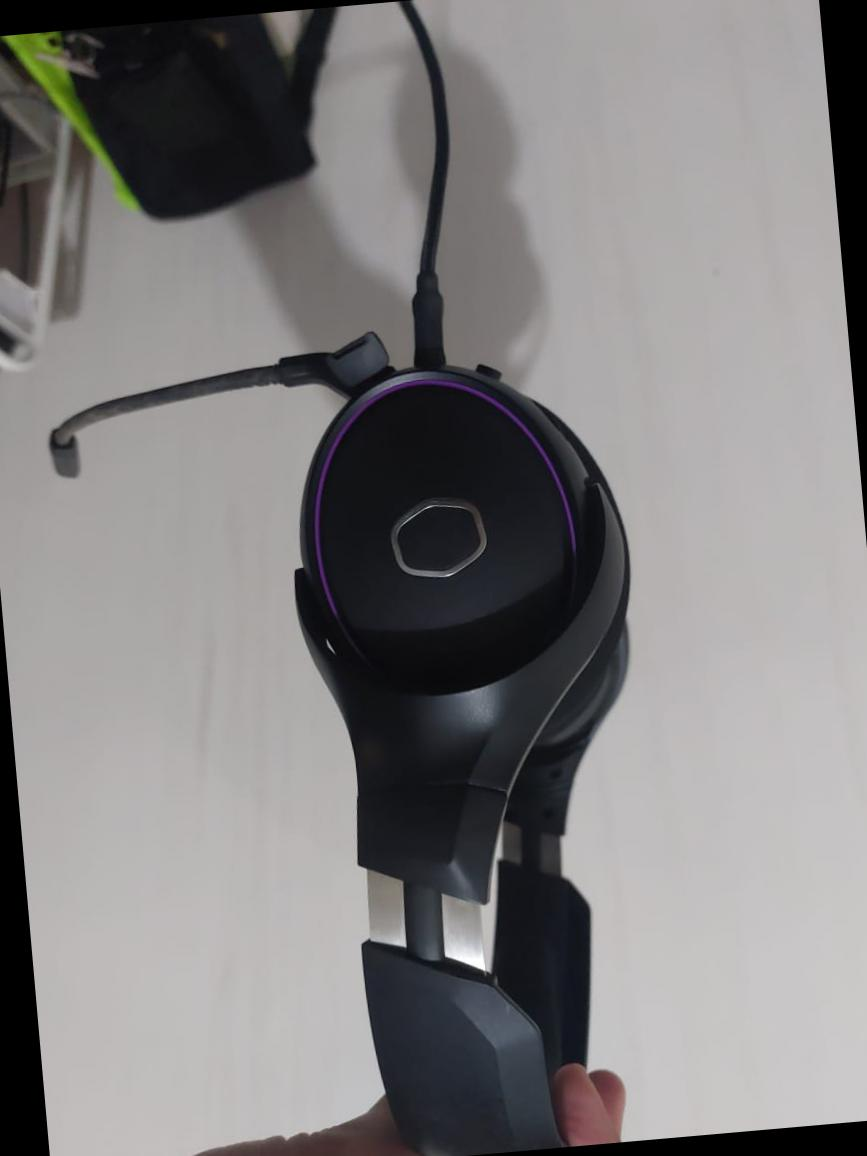Headset: (19, 295, 693, 1155)
